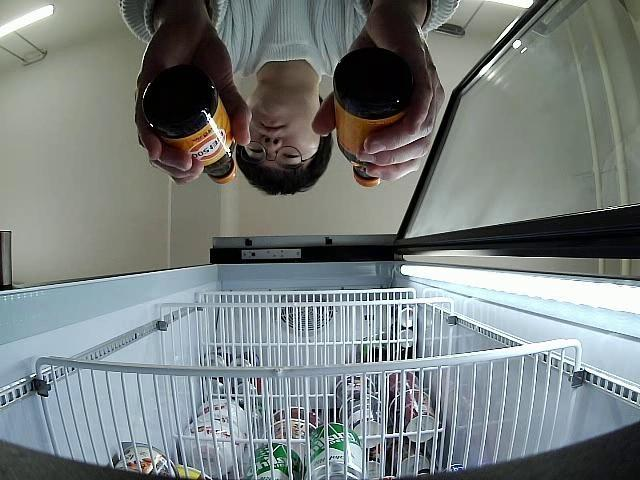17_vita500: (332, 45, 416, 188), (140, 64, 236, 185)
